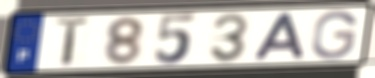3: (206, 12, 251, 64)
5: (153, 11, 201, 67)
8: (103, 15, 148, 67)
A: (251, 11, 308, 62)
G: (309, 9, 360, 61)
T: (53, 15, 94, 70)
